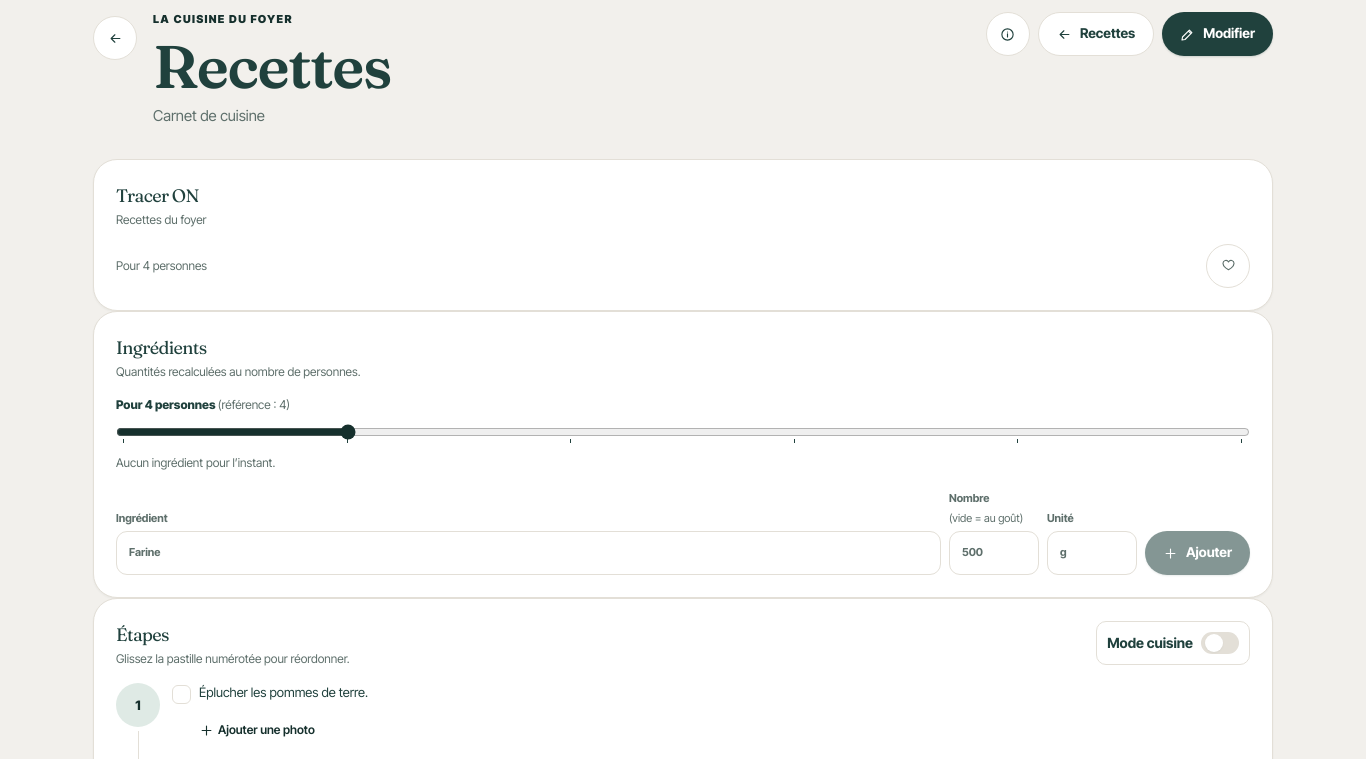
Scenario: Mode cuisine — tracer fiche membre (R1, R2, R3) › toggle ON : numeros + textes + cases seules, compteur 0/3 + barre, sans édition
Click the button "Mode cuisine" at (1173,643), box [1096,621,1250,665]
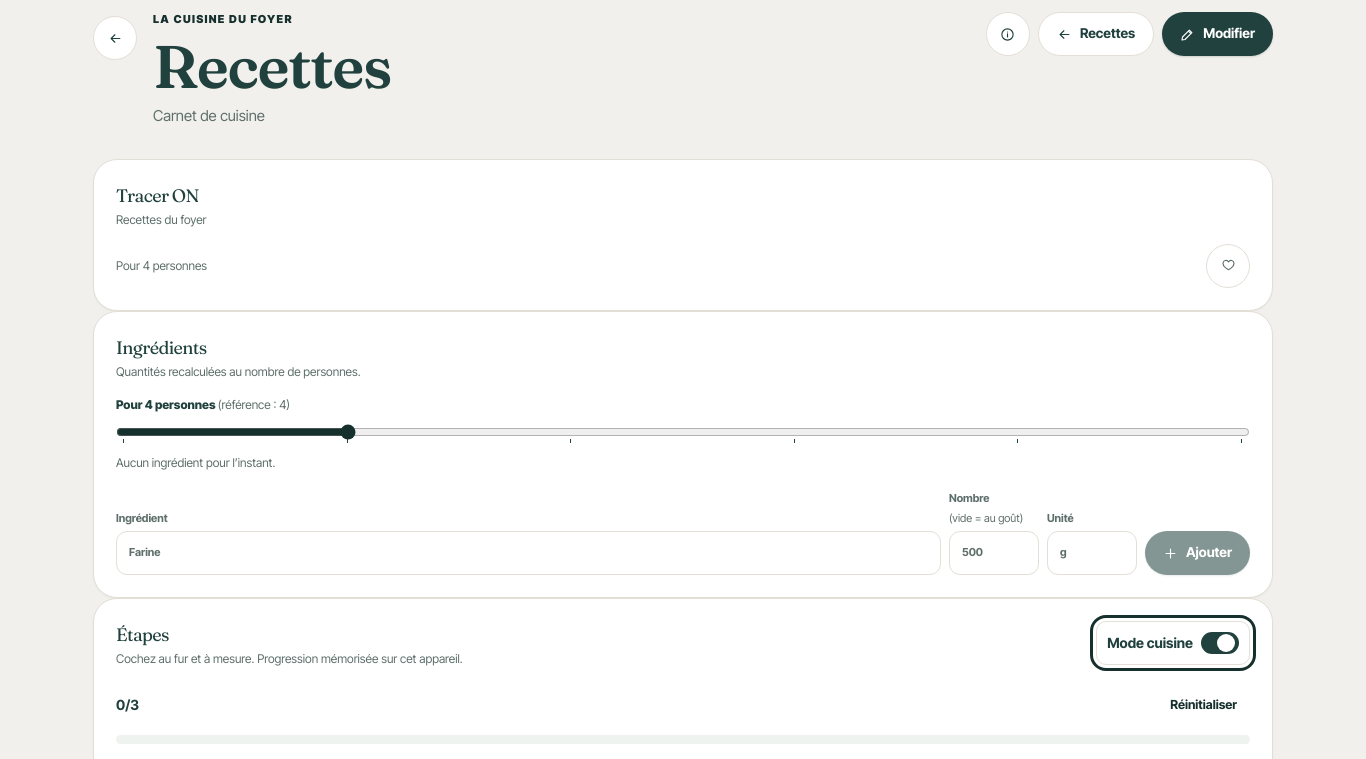
Now the text "Cochez au fur et à mesure. Progression mémorisée sur cet appareil." is shown, box [116,651,463,666]
Now the text "réordonner" is gone
Now the text "0/3" is shown, box [116,695,139,715]
